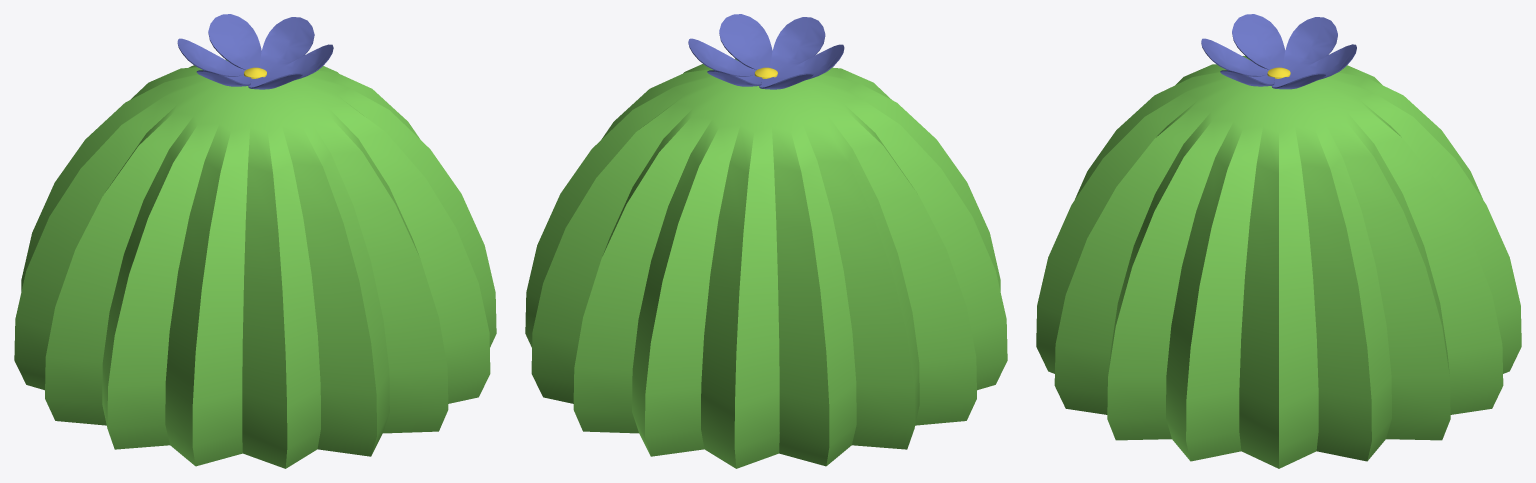
Rendered from Bush_3.fbx.
3 views of the same model, side by side, from view 1: azimuth 30°, elevation 25°; view 2: azimuth 150°, elevation 25°; view 3: azimuth 270°, elevation 25° (orthographic).
Visible parts, largest first — view 1: flower_1; view 2: flower_1; view 3: flower_1.
Boxes of the visible parts, x1,y1,x2,y2 form: flower_1: [14, 14, 496, 468]; flower_1: [525, 14, 1007, 468]; flower_1: [1036, 14, 1521, 468].
Bounding box in the file's own units: 57.73 × 42.9 × 57.73.
